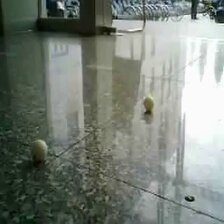w: (29, 139, 49, 161), (142, 95, 156, 111)
